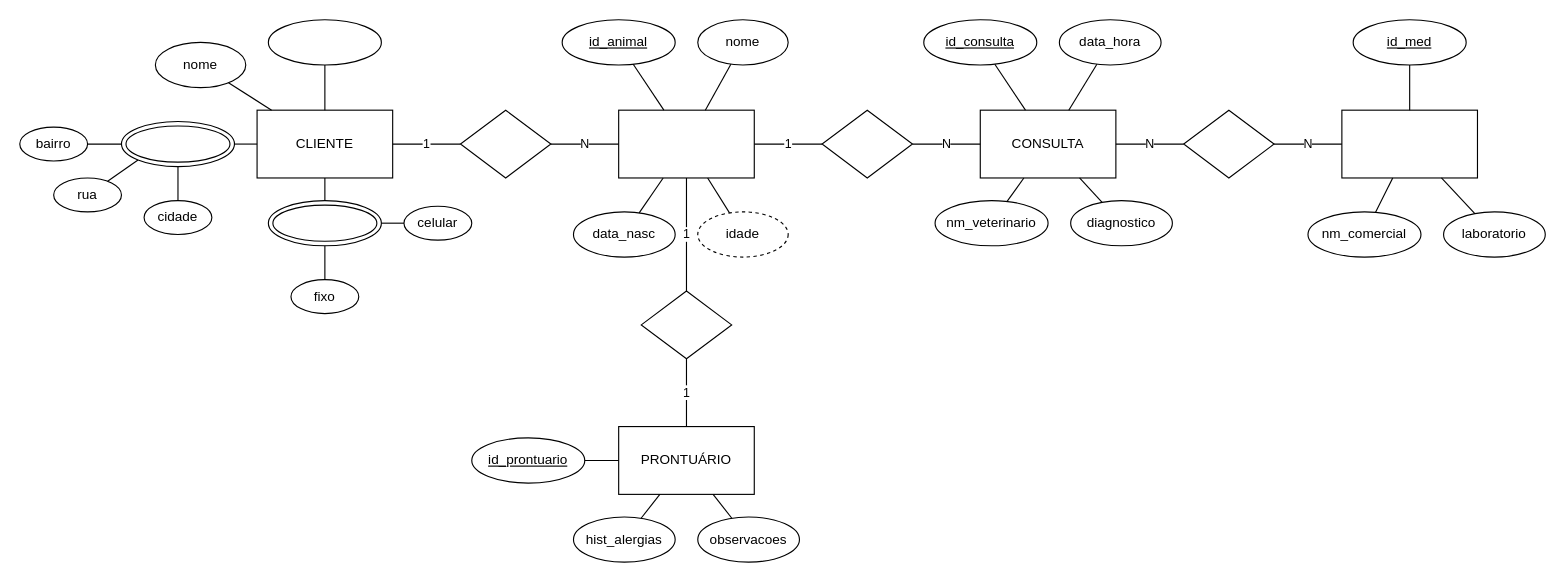
This 1565x582 diagram has some shape labels left out. Each missing label, with the centre of its shape:
ANIMAL: pixel 686 143
endereço: pixel 177 143
id_cliente: pixel 324 42
MEDICAMENTO: pixel 1409 143
participa: pixel 866 143
possui: pixel 505 143
prescreve: pixel 1228 143
telefones: pixel 324 222
tem: pixel 686 324
